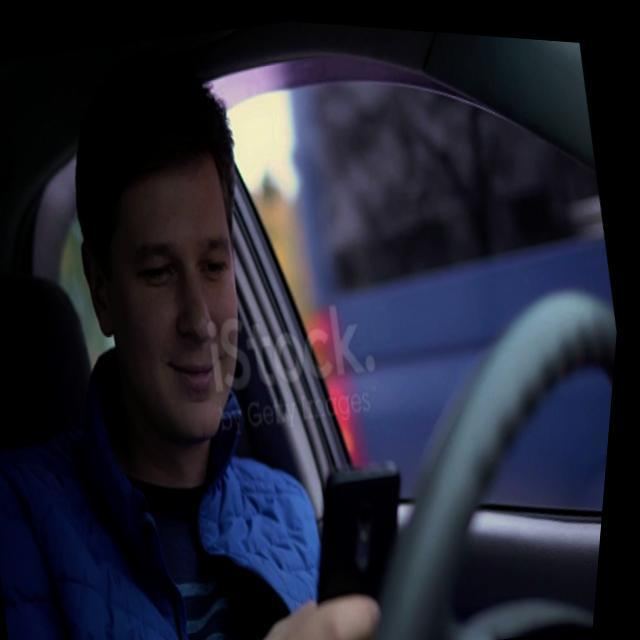PhoneCall: (298, 448, 440, 638)
